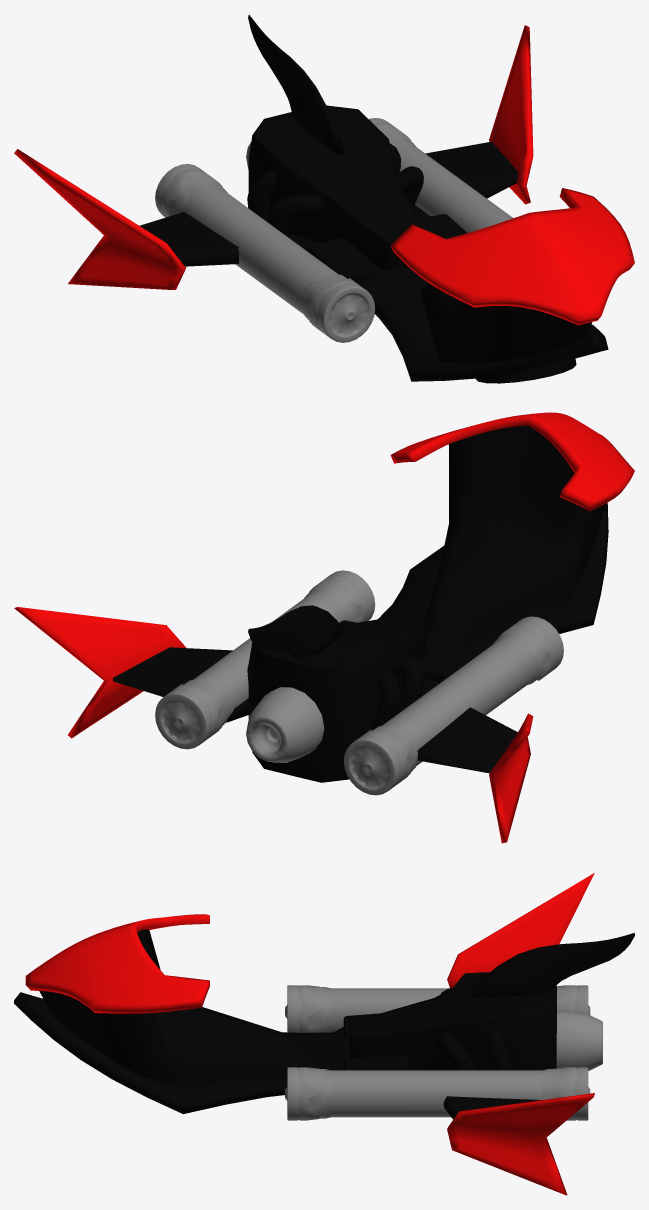
The model's file is hoverboard.gltf.
3 views of the same model, one above another, from view 1: azimuth 30°, elevation 25°; view 2: azimuth 150°, elevation 25°; view 3: azimuth 270°, elevation 25° (orthographic). The views are drawn at different scales.
Parts seen in each view (by area): view 1: mesh_hoverboard_grey, mesh_hoverboard_red; view 2: mesh_hoverboard_grey, mesh_hoverboard_red; view 3: mesh_hoverboard_grey, mesh_hoverboard_red.
Part boxes in pixels (x1=…): mesh_hoverboard_grey: x1=139, y1=105, x2=608, y2=383; mesh_hoverboard_red: x1=14, y1=15, x2=634, y2=325; mesh_hoverboard_grey: x1=112, y1=425, x2=608, y2=795; mesh_hoverboard_red: x1=14, y1=412, x2=634, y2=843; mesh_hoverboard_grey: x1=14, y1=929, x2=602, y2=1120; mesh_hoverboard_red: x1=25, y1=873, x2=634, y2=1195.
Bounding box in the file's own units: 2.88 × 1.05 × 3.37.
